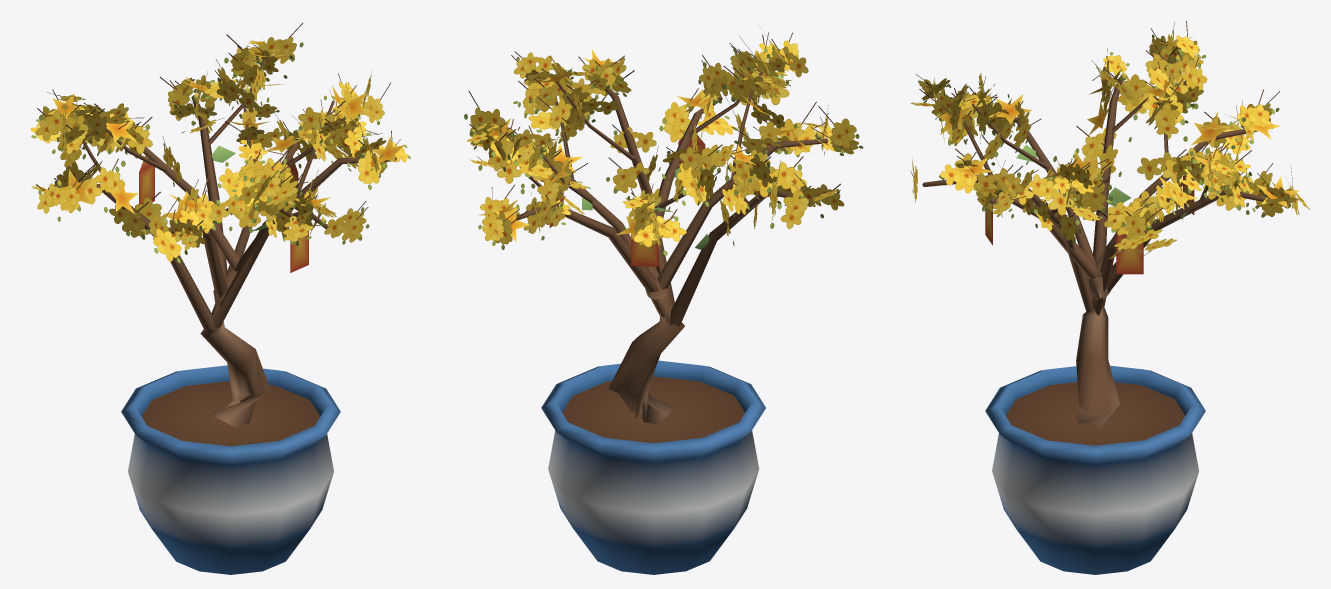
The model's file is chau_mai.glb.
3 views of the same model, side by side, from view 1: azimuth 30°, elevation 25°; view 2: azimuth 150°, elevation 25°; view 3: azimuth 270°, elevation 25° (orthographic). The views are drawn at different scales.
Parts seen in each view (by area): view 1: TheHoa, Chau, Dat, Goc, Canh6, Canh3, Canh1, Canh2, Canh4, LiXi1, LiXi2, Canh5 (+1 smaller); view 2: TheHoa, Chau, Dat, Goc, Canh3, Canh4, Canh1, Canh6, Canh5, Canh0, LiXi1; view 3: TheHoa, Chau, Dat, Goc, Canh3, Canh1, Canh6, Canh5, LiXi0, Canh4, Canh0, Canh2.
Boxes of the visible parts, bbox=[...] form: TheHoa: bbox=[31, 23, 410, 263]; Chau: bbox=[121, 365, 340, 574]; Dat: bbox=[141, 381, 320, 446]; Goc: bbox=[200, 268, 270, 427]; Canh6: bbox=[212, 156, 396, 327]; Canh3: bbox=[96, 184, 214, 332]; Canh1: bbox=[191, 95, 227, 276]; Canh2: bbox=[143, 147, 239, 272]; Canh4: bbox=[171, 209, 227, 298]; LiXi1: bbox=[139, 155, 154, 204]; LiXi2: bbox=[290, 231, 308, 272]; Canh5: bbox=[234, 212, 336, 271]; TheHoa: bbox=[464, 32, 863, 255]; Chau: bbox=[541, 360, 765, 574]; Dat: bbox=[562, 376, 744, 443]; Goc: bbox=[608, 266, 684, 424]; Canh3: bbox=[670, 190, 810, 326]; Canh4: bbox=[657, 138, 828, 289]; Canh1: bbox=[516, 204, 658, 294]; Canh6: bbox=[605, 89, 674, 308]; Canh5: bbox=[655, 96, 722, 217]; Canh0: bbox=[518, 155, 671, 323]; LiXi1: bbox=[631, 234, 658, 266]; TheHoa: bbox=[910, 21, 1310, 259]; Chau: bbox=[985, 365, 1205, 574]; Dat: bbox=[1006, 382, 1185, 445]; Goc: bbox=[1075, 276, 1119, 427]; Canh3: bbox=[1093, 78, 1122, 262]; Canh1: bbox=[1107, 189, 1266, 292]; Canh6: bbox=[990, 188, 1093, 313]; Canh5: bbox=[922, 177, 1097, 279]; LiXi0: bbox=[1116, 234, 1143, 274]; Canh4: bbox=[1013, 117, 1096, 263]; Canh0: bbox=[1092, 229, 1147, 315]; Canh2: bbox=[1095, 129, 1257, 277].
Bounding box in the file's own units: 0.4875 × 0.6012 × 0.4906.
Materials: 3 (1 with a texture image).
